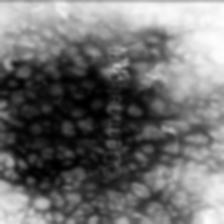Potentially Malignant Skin Tumors: (3, 27, 102, 208), (132, 26, 218, 224)
